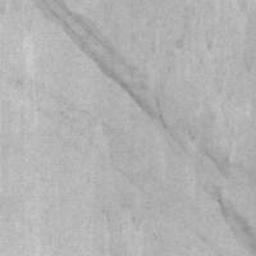Water spot: (27, 0, 256, 256), (14, 72, 242, 256)
